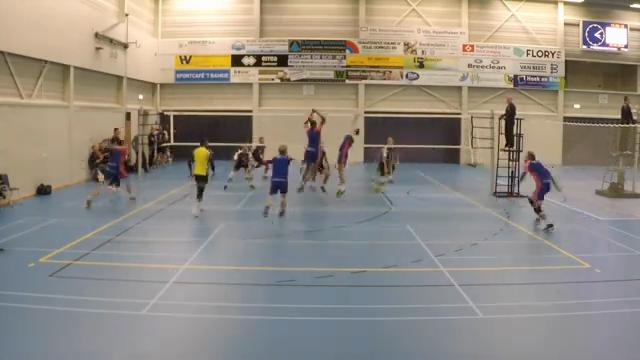Player: (520, 151, 559, 230), (298, 109, 325, 191), (263, 145, 291, 216), (192, 140, 213, 216), (224, 147, 254, 189), (106, 137, 127, 190), (375, 137, 395, 191), (314, 143, 331, 193), (378, 137, 394, 182), (252, 136, 268, 178), (208, 149, 214, 175), (300, 146, 305, 177)
Set: (334, 106, 368, 200)
